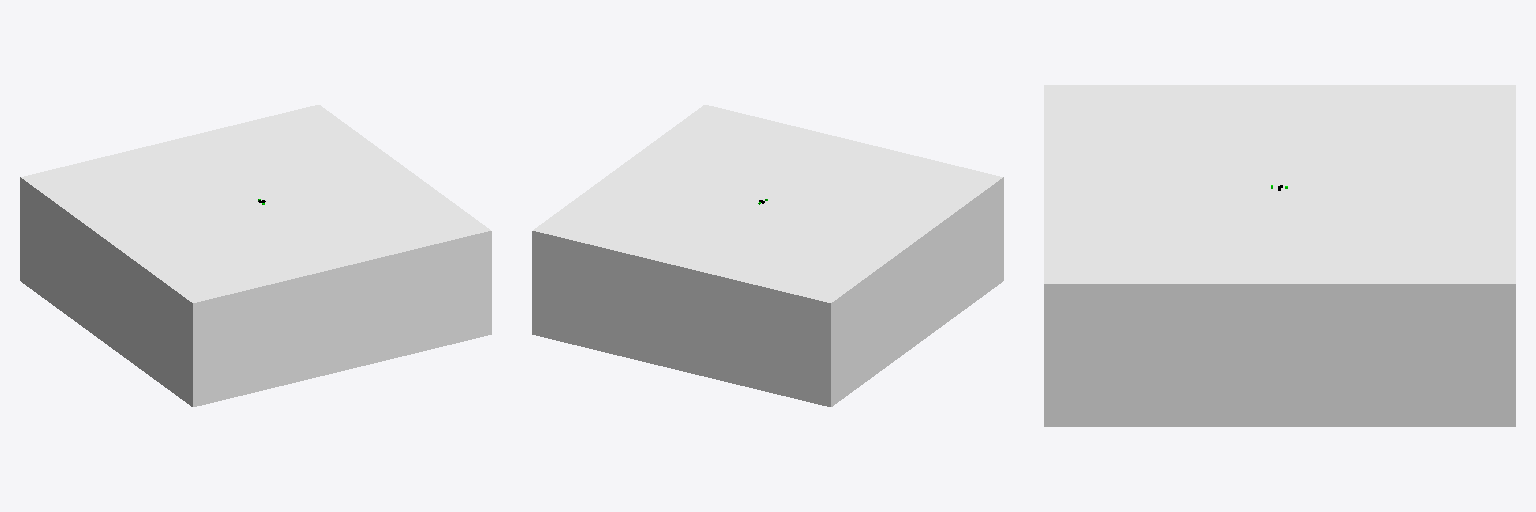
URDF robot description (plane_with_box):
<?xml version="1.0"?>
<robot name="plane_with_box">
  <link name="planeLink">
    <contact>
      <lateral_friction value="1" />
    </contact>
    <inertial>
      <origin rpy="0 0 0" xyz="0 0 0" />
      <mass value=".0" />
      <inertia ixx="0" ixy="0" ixz="0" iyy="0" iyz="0" izz="0" />
    </inertial>
    <visual>
      <origin rpy="0 0 0" xyz="0 0 -5" />
      <geometry>
        <box size="30 30 10" />
      </geometry>
      <material name="white">
        <color rgba="1 1 1 1" />
      </material>
    </visual>
    <collision>
      <origin rpy="0 0 0" xyz="0 0 -5" />
      <geometry>
        <box size="30 30 10" />
      </geometry>
    </collision>

  </link>

  <link name="BoxLink1">
    <contact>
      <lateral_friction value="1" />
    </contact>
    <inertial>
      <origin rpy="0 0 0" xyz="0 0 0" />
      <mass value=".0" />
      <inertia ixx="0" ixy="0" ixz="0" iyy="0" iyz="0" izz="0" />
    </inertial>
    <visual>
      <origin rpy="0 0 0" xyz="0.72 -0.04 0.0805" />
      <geometry>
        <box size="0.35 0.20 0.16" />
      </geometry>
      <material name="black">
        <color rgba="0 0 0 1" />
      </material>
    </visual>
    <collision>
      <origin rpy="0 0 0" xyz="0.72 -0.04 0.0805" />
      <geometry>
        <box size="0.35 0.20 0.16" />
      </geometry>
    </collision>
  </link>
  <link name="BoxLink2">
    <contact>
      <lateral_friction value="1" />
    </contact>
    <inertial>
      <origin rpy="0 0 0" xyz="0 0 0" />
      <mass value=".0" />
      <inertia ixx="0" ixy="0" ixz="0" iyy="0" iyz="0" izz="0" />
    </inertial>
    <visual>
      <origin rpy="0 0 0" xyz="0.46 -0.5 0.0805" />
      <geometry>
        <box size="0.20 0.15 0.16" />
      </geometry>
      <material name="black">
        <color rgba="0 1 0 1" />
      </material>
    </visual>
    <collision>
      <origin rpy="0 0 0" xyz="0.46 -0.5 0.0805" />
      <geometry>
        <box size="0.20 0.15 0.16" />
      </geometry>
    </collision>
  </link>
  <link name="BoxLink3">
    <contact>
      <lateral_friction value="1" />
    </contact>
    <inertial>
      <origin rpy="0 0 0" xyz="0 0 0" />
      <mass value=".0" />
      <inertia ixx="0" ixy="0" ixz="0" iyy="0" iyz="0" izz="0" />
    </inertial>
    <visual>
      <origin rpy="0 0 0" xyz="0.6 0.4 0.0805" />
      <geometry>
        <box size="0.15 0.20 0.16" />
      </geometry>
      <material name="black">
        <color rgba="0 1 0 1" />
      </material>
    </visual>
    <collision>
      <origin rpy="0 0 0" xyz="0.6 0.4 0.0805" />
      <geometry>
        <box size="0.15 0.20 0.16" />
      </geometry>
    </collision>
  </link>
  <link name="BoxLink4">
    <contact>
      <lateral_friction value="1" />
    </contact>
    <inertial>
      <origin rpy="0 0 0" xyz="0 0 0" />
      <mass value=".0" />
      <inertia ixx="0" ixy="0" ixz="0" iyy="0" iyz="0" izz="0" />
    </inertial>
    <visual>
      <origin rpy="0 0 0" xyz="0.44 0.075 0.0805" />
      <geometry>
        <box size="0.20 0.20 0.16" />
      </geometry>
      <material name="black">
        <color rgba="0 0 0 1" />
      </material>
    </visual>
    <collision>
      <origin rpy="0 0 0" xyz="0.44 0.075 0.0805" />
      <geometry>
        <box size="0.20 0.20 0.16" />
      </geometry>
    </collision>
  </link>

  <joint name="box_joint_1" type="fixed">
    <parent link="planeLink"/>
    <child link="BoxLink1"/>
  </joint>

  <joint name="box_joint_2" type="fixed">
    <parent link="planeLink"/>
    <child link="BoxLink2"/>
  </joint>

  <joint name="box_joint_3" type="fixed">
    <parent link="planeLink"/>
    <child link="BoxLink3"/>
  </joint>

  <joint name="box_joint_4" type="fixed">
    <parent link="planeLink"/>
    <child link="BoxLink4"/>
  </joint>
</robot>

--- Render facts (derived) ---
3 views of the same robot in one strip: view 1: azimuth 30°, elevation 25°; view 2: azimuth 150°, elevation 25°; view 3: azimuth 270°, elevation 25° (orthographic).
Model plane_with_box with 5 links and 4 joints (4 fixed), rooted at planeLink, posed all joints at 0.
Links seen in each view (by area): view 1: planeLink; view 2: planeLink; view 3: planeLink.
Boxes of the visible links, x1,y1,x2,y2 form: planeLink: (20,105,491,406); planeLink: (532,105,1003,406); planeLink: (1044,85,1515,426).
Size in the robot's own frame: 30 by 30 by 10.16 metres.
Geometry: primitives only (box / cylinder / sphere), no mesh files.